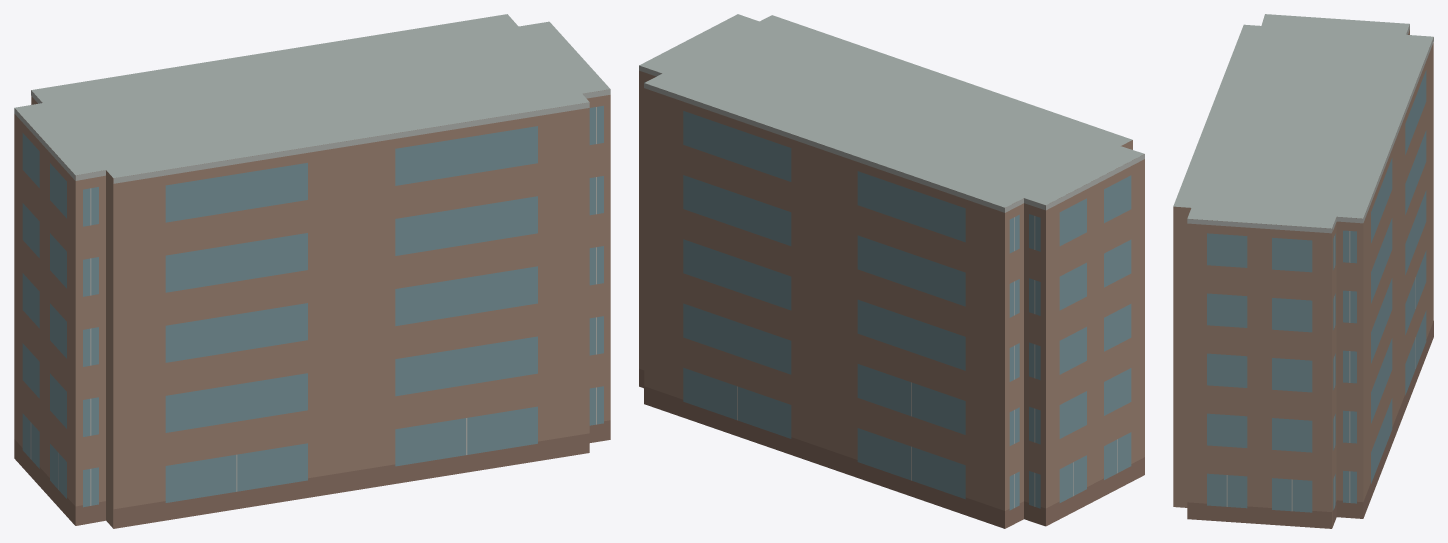
File: survey-upis-32992271.glb
3 renders of one model, left to right at view 1: azimuth 30°, elevation 25°; view 2: azimuth 150°, elevation 25°; view 3: azimuth 270°, elevation 25°, orthographic. The views are drawn at different scales.
Parts seen in each view (by area): view 1: survey-upis-32992271.tmp; view 2: survey-upis-32992271.tmp; view 3: survey-upis-32992271.tmp.
Part boxes in pixels (x1,y1,x2,y2): survey-upis-32992271.tmp: (14, 14, 610, 528); survey-upis-32992271.tmp: (639, 14, 1144, 528); survey-upis-32992271.tmp: (1173, 14, 1433, 528).
Bounding box in the file's own units: 23.37 × 15.25 × 12.
